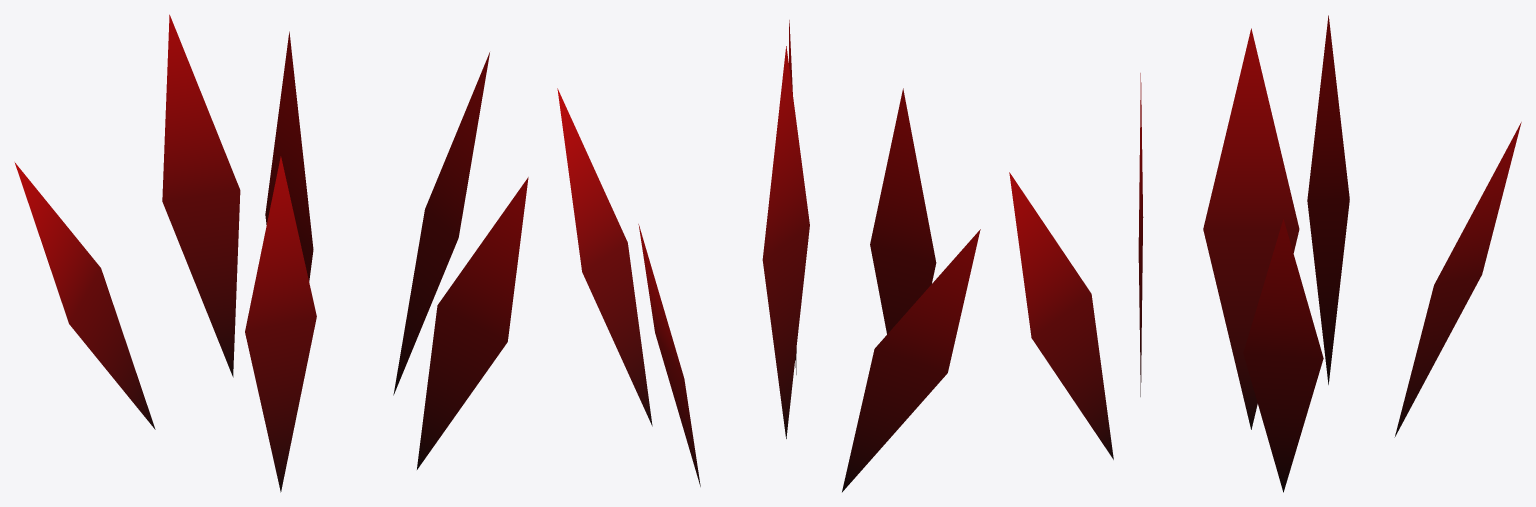
The model's file is GrassDiamond.fbx.
3 views of the same model, side by side, from view 1: azimuth 30°, elevation 25°; view 2: azimuth 150°, elevation 25°; view 3: azimuth 270°, elevation 25° (orthographic).
Parts seen in each view (by area): view 1: Grass.001; view 2: Grass.001; view 3: Grass.001.
Boxes of the visible parts, x1=… form: Grass.001: x1=14, y1=14, x2=528, y2=492; Grass.001: x1=557, y1=20, x2=980, y2=492; Grass.001: x1=1009, y1=15, x2=1521, y2=492.
Size of the model in its own units: 80.65 by 69.13 by 78.97.
